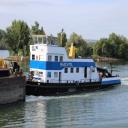tugboat: (9, 28, 124, 100)
